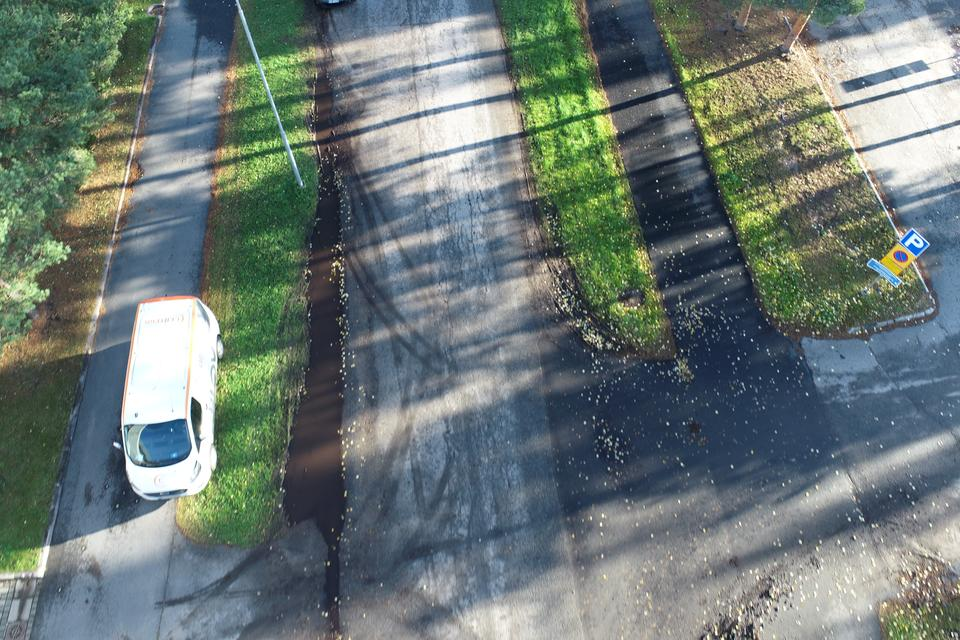intersection: (222, 280, 960, 640)
